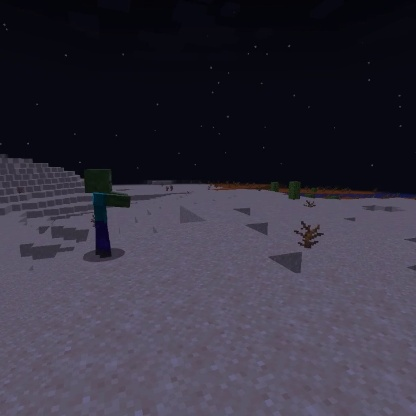zombie: (80, 165, 135, 263)
